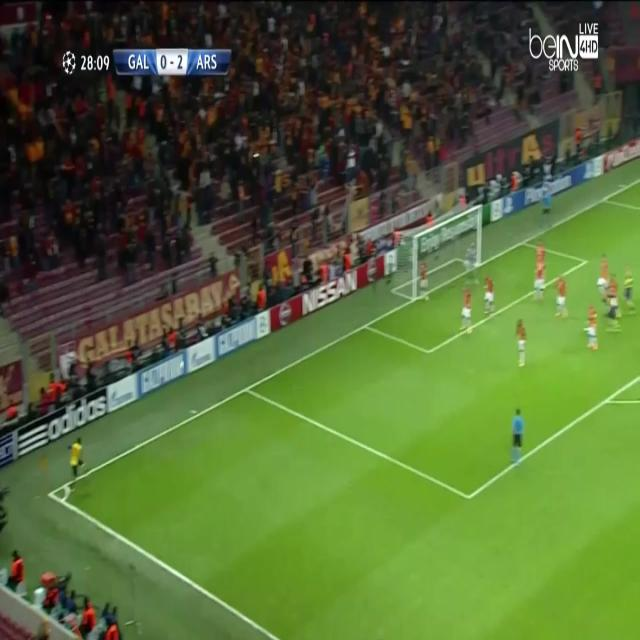Ball: (178, 358, 187, 374)
Goalkeeper: (460, 239, 480, 287)
Player: (64, 431, 88, 496), (581, 301, 603, 358), (622, 262, 638, 322), (532, 256, 548, 311), (458, 285, 475, 336), (554, 274, 571, 322), (594, 250, 610, 300), (513, 317, 529, 366), (417, 258, 432, 308), (482, 274, 497, 318), (605, 291, 621, 332)
Referee: (508, 404, 525, 470), (539, 185, 554, 231)
